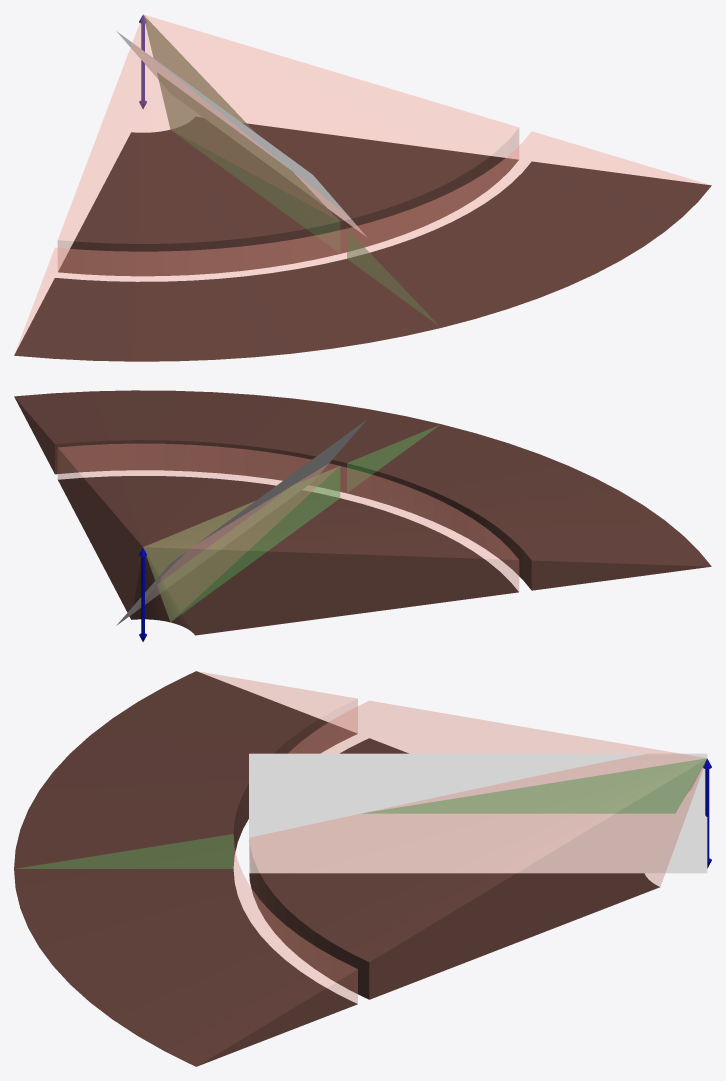
Rendered from area_08.glb.
3 renders of one model, top to bottom at view 1: azimuth 30°, elevation 25°; view 2: azimuth 150°, elevation 25°; view 3: azimuth 270°, elevation 25°, orthographic. The views are drawn at different scales.
Parts seen in each view (by area): view 1: defaultobject, 平面; view 2: defaultobject, 平面; view 3: defaultobject, 平面.
Boxes of the visible parts, bbox=[...] form: defaultobject: bbox=[14, 14, 711, 361]; 平面: bbox=[116, 31, 366, 236]; defaultobject: bbox=[14, 390, 711, 635]; 平面: bbox=[116, 419, 367, 625]; defaultobject: bbox=[14, 671, 706, 1066]; 平面: bbox=[249, 753, 707, 873].
Bounding box in the file's own units: 30.65 × 4 × 22.84.
